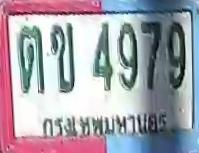4: (91, 22, 114, 92)
7: (141, 20, 161, 86)
9: (117, 23, 138, 90), (166, 21, 186, 89)
A02: (49, 22, 76, 95)
A05: (16, 24, 45, 94)
BKK: (38, 108, 174, 136)
